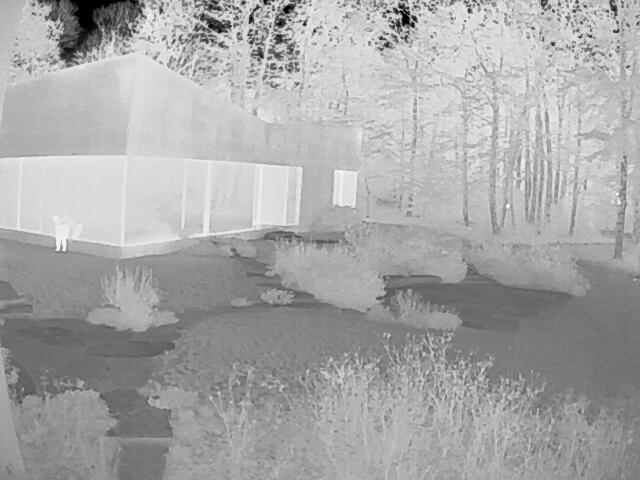person: (51, 214, 68, 252)
